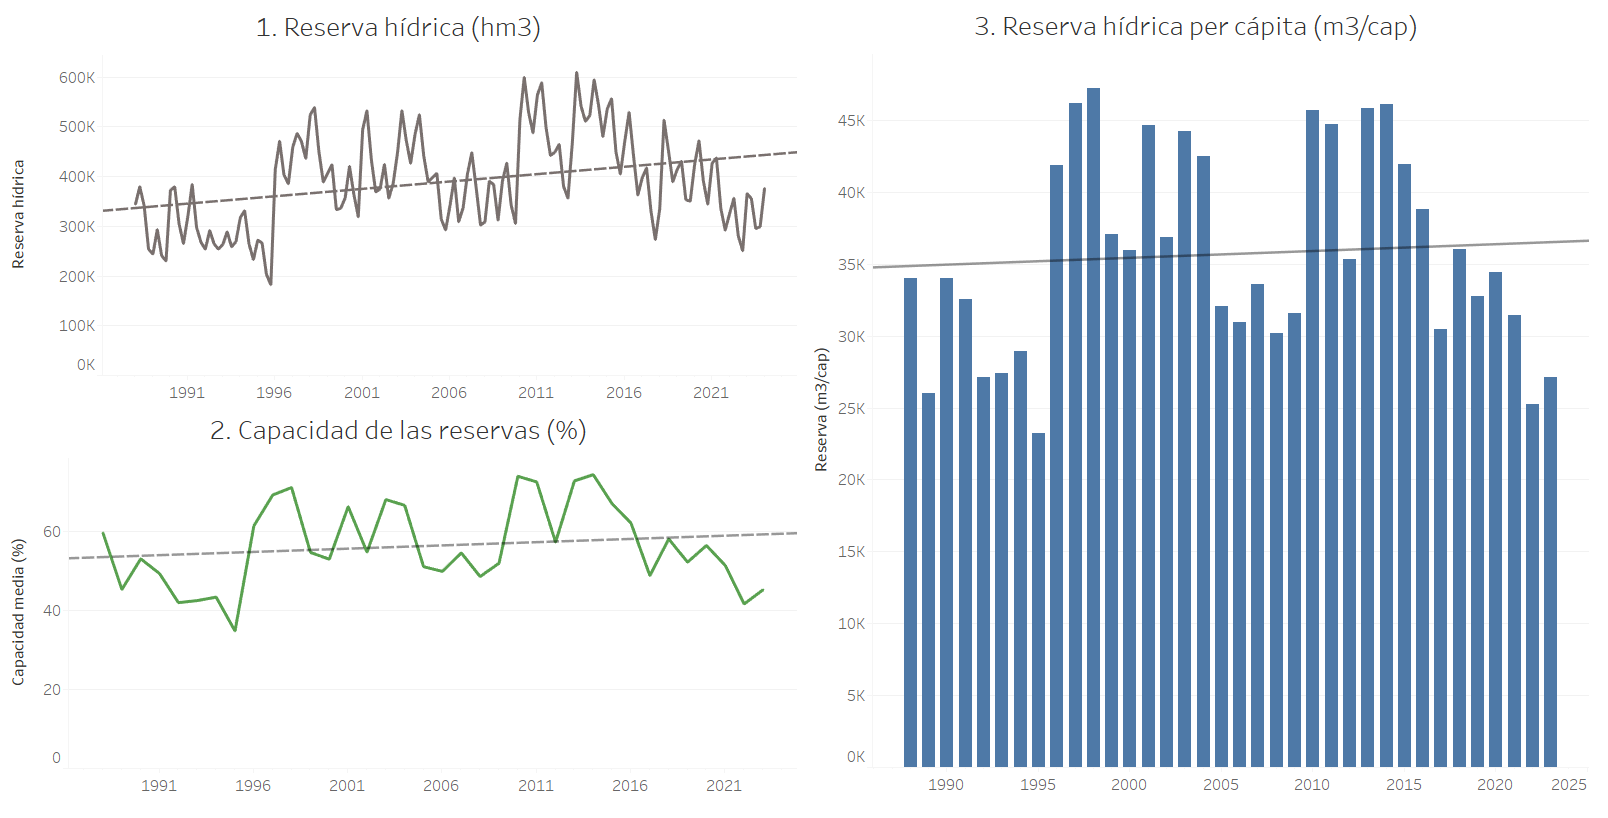

What the dashboard file says about the page in this screenshot:
{"tool":"tableau","page":{"name":"Dashboard 1","canvas":[1600,800],"ordinal":0},"visuals":[{"type":"worksheet","title":"Reservas/cap","mark":"Bar","rows":["AGUA_ACTUAL_cap"],"cols":["year"],"box":[807,2,786,793]},{"type":"worksheet","title":"Hoja 1","mark":"Automatic","rows":["AGUA_ACTUAL"],"cols":["FECHA"],"box":[4,3,797,400]},{"type":"worksheet","title":"Capacidad(%)","mark":"Automatic","rows":["capacidad"],"cols":["FECHA"],"box":[4,406,797,390]}]}

Visuals, with their boxes in screenshot pixels (x1, y1, x2, y2), scaled from the page's 1600x800 canvas onto the 1608x818 screenshot:
"Reservas/cap" worksheet (Bar marks): crop(811, 2, 1601, 813)
"Hoja 1" worksheet: crop(4, 3, 805, 412)
"Capacidad(%)" worksheet: crop(4, 415, 805, 814)
